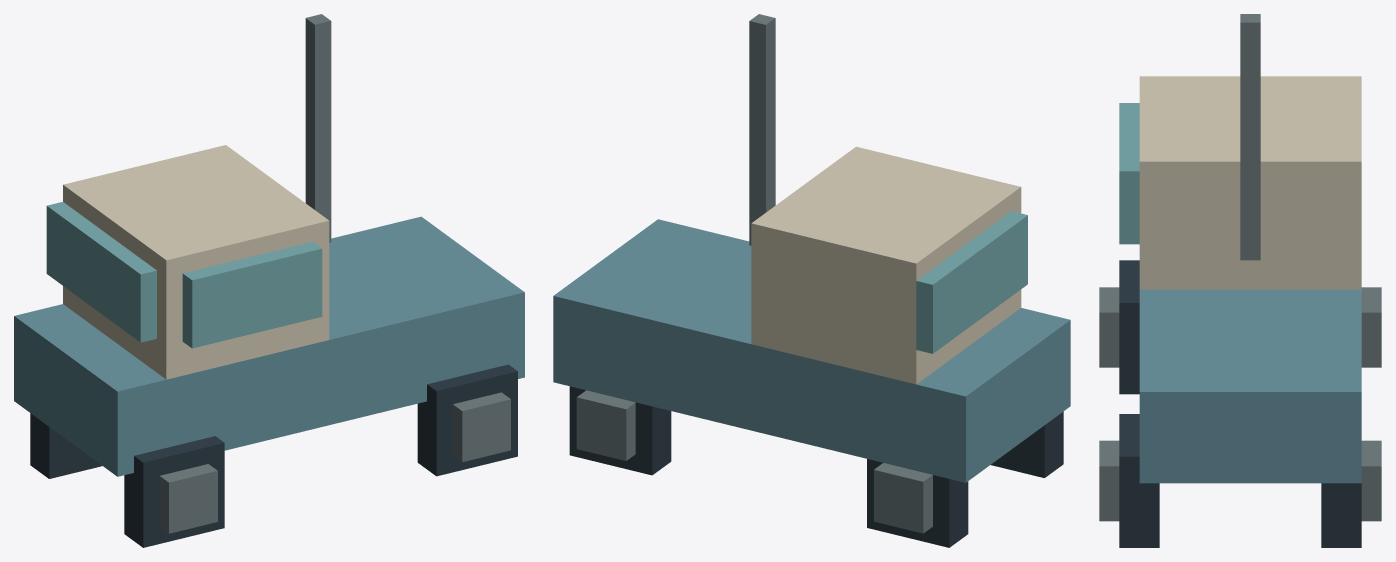
The model's file is ocean-19.glb.
The picture shows the model from 3 angles, left to right: view 1: azimuth 30°, elevation 25°; view 2: azimuth 150°, elevation 25°; view 3: azimuth 270°, elevation 25°; orthographic projection. The views are drawn at different scales.
Visible parts, largest first — view 1: Underwater drone; view 2: Underwater drone; view 3: Underwater drone.
Part boxes in pixels (box(x1,y1,x2,y2)): Underwater drone: box(14, 14, 524, 547); Underwater drone: box(553, 14, 1070, 547); Underwater drone: box(1099, 14, 1381, 547).
Bounding box in the file's own units: 2 × 2 × 1.12.
